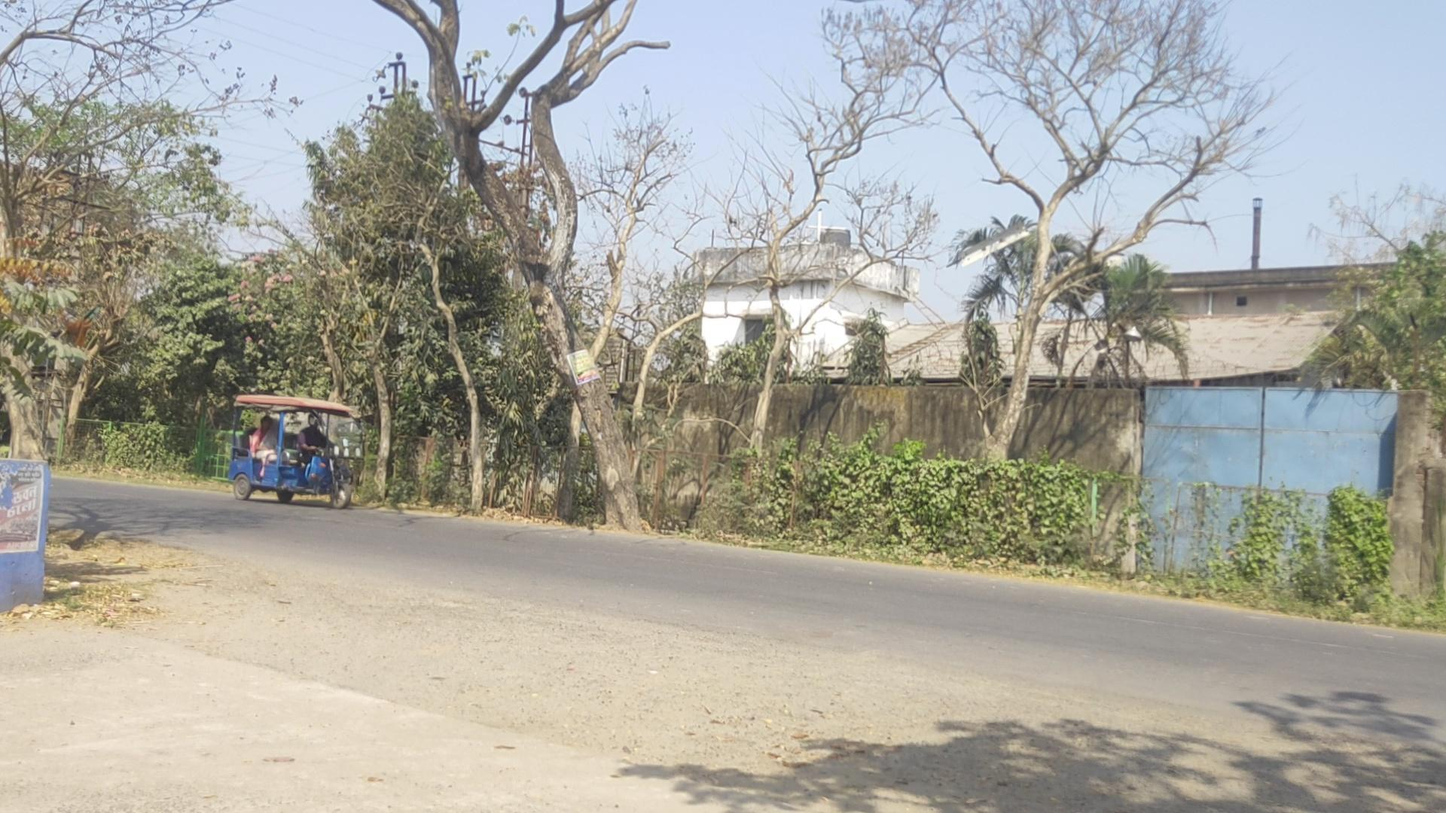Auto: (227, 394, 365, 510)
